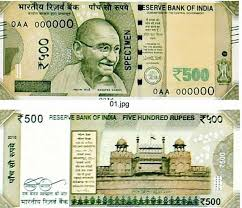fiveHundred: (9, 15, 218, 85)
